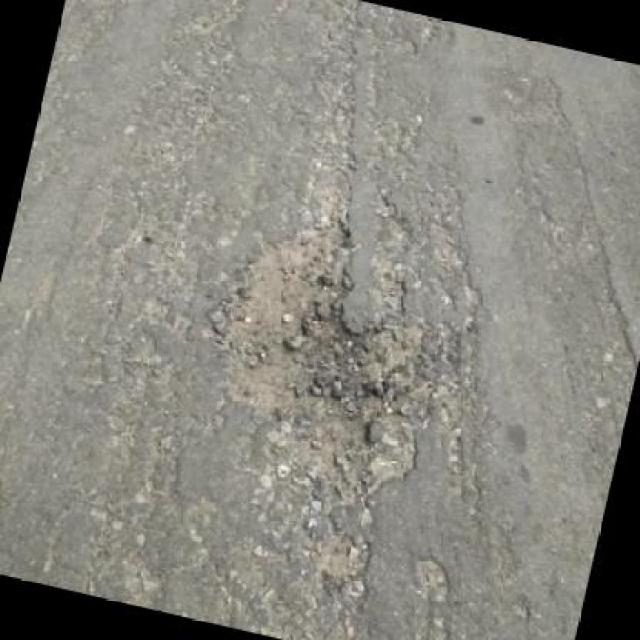pothole1: (168, 194, 457, 511)
